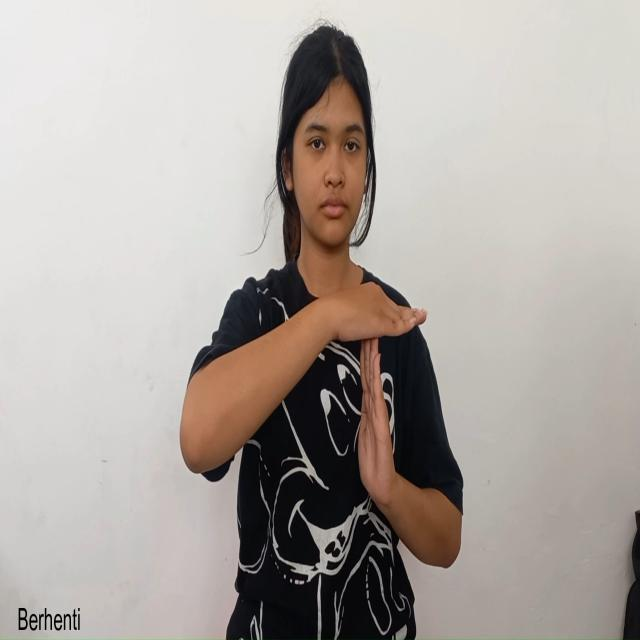Berhenti -BISINDO-: (244, 280, 428, 551)
